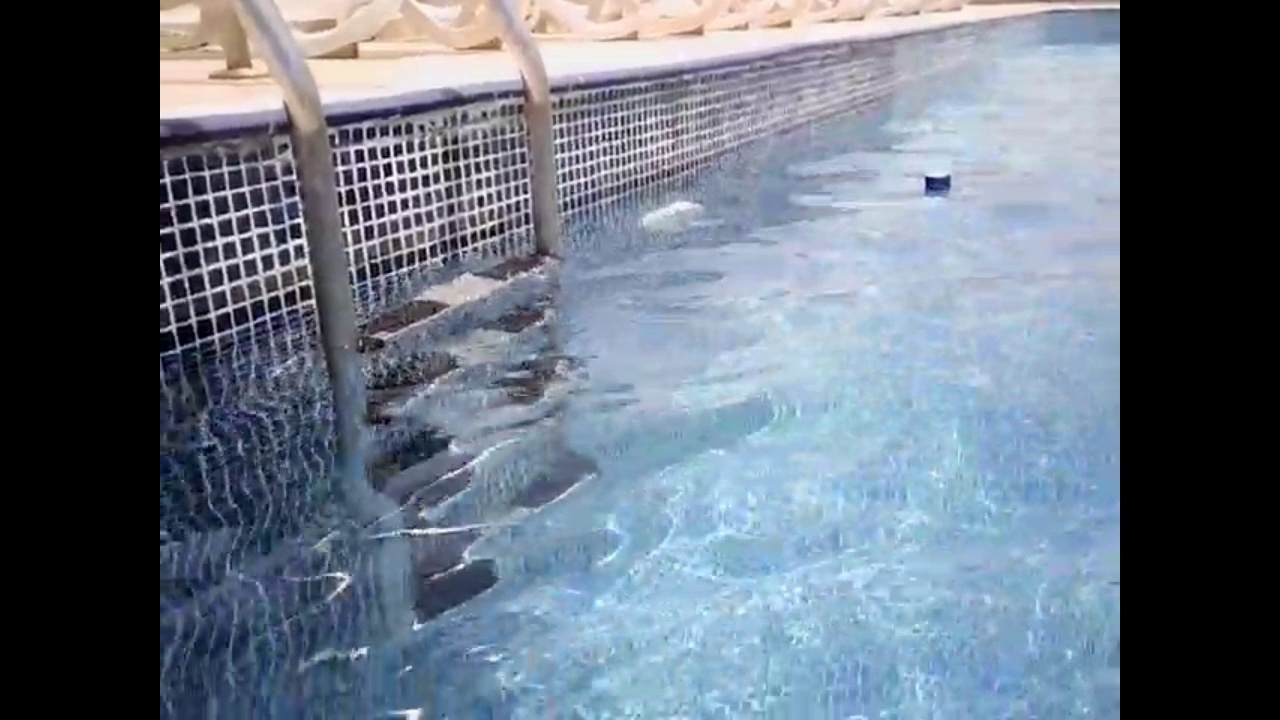debris: (914, 162, 961, 206)
